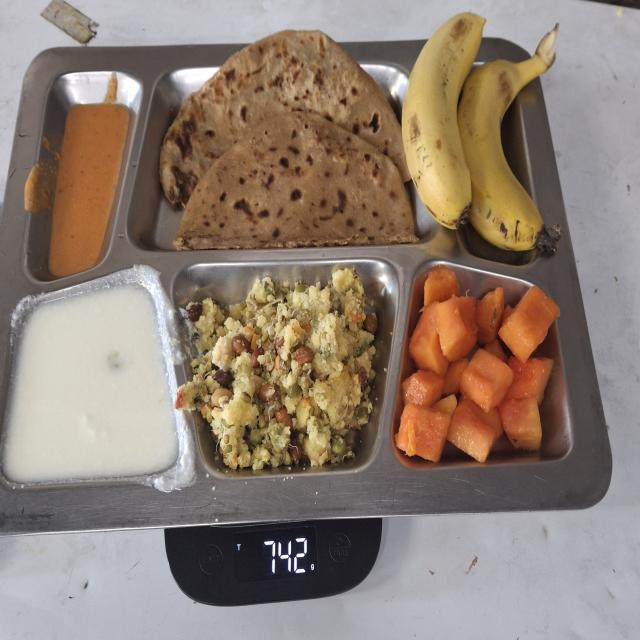Banana: (403, 9, 561, 262)
Chapati: (158, 29, 419, 251)
Chutney: (36, 76, 136, 280)
Curd: (10, 293, 178, 478)
Papaya: (394, 270, 555, 463)
Upma: (182, 266, 383, 473)
